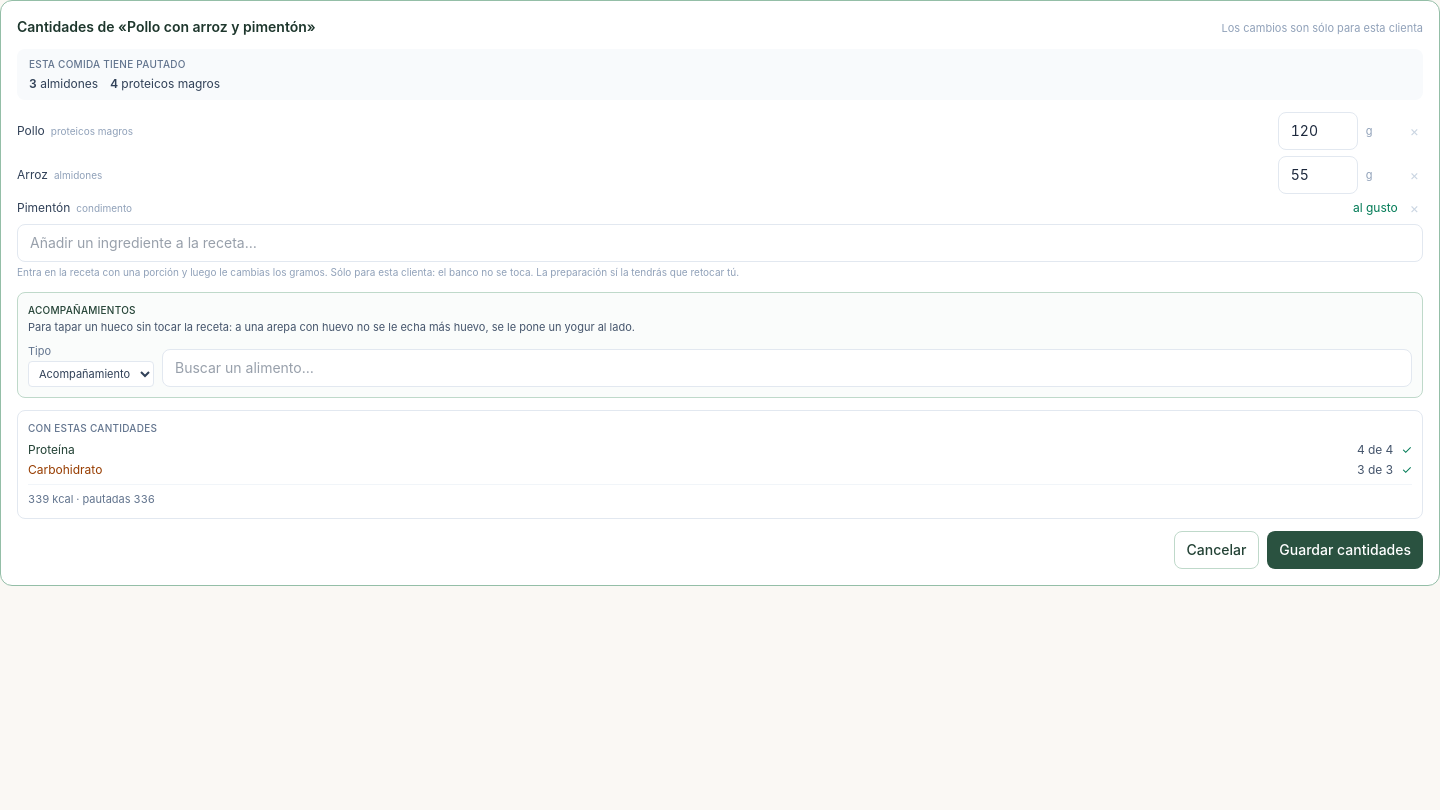
Scenario: Quitarle un ingrediente a esta clienta › y se puede devolver
Click the button named "Quitar Pimentón": (1414, 208) [1406,201,1423,215]
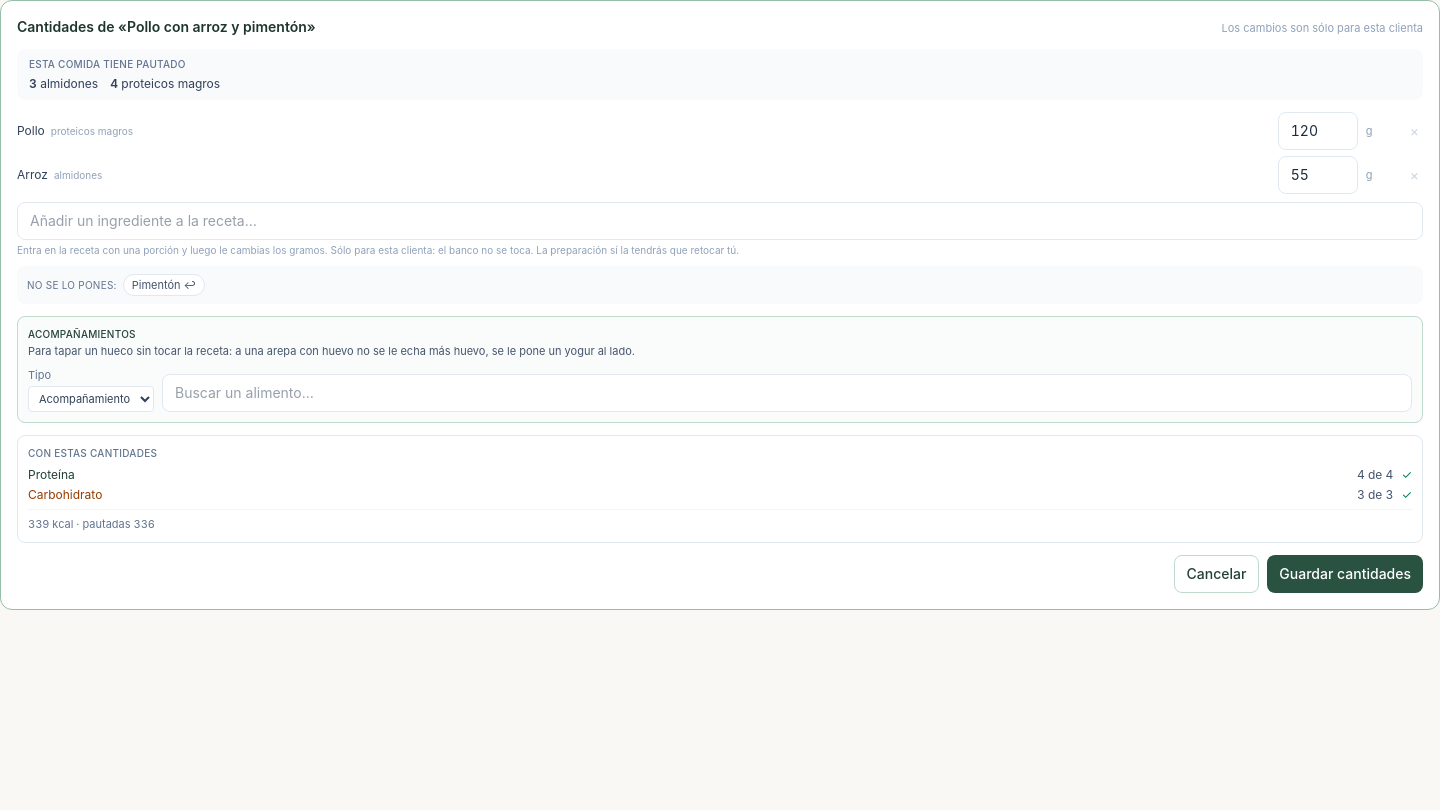
expect the text "No se lo pones:" is shown: met, box [27,278,117,292]
Click the button "Pimentón ↩": (164, 285) [123,274,205,296]
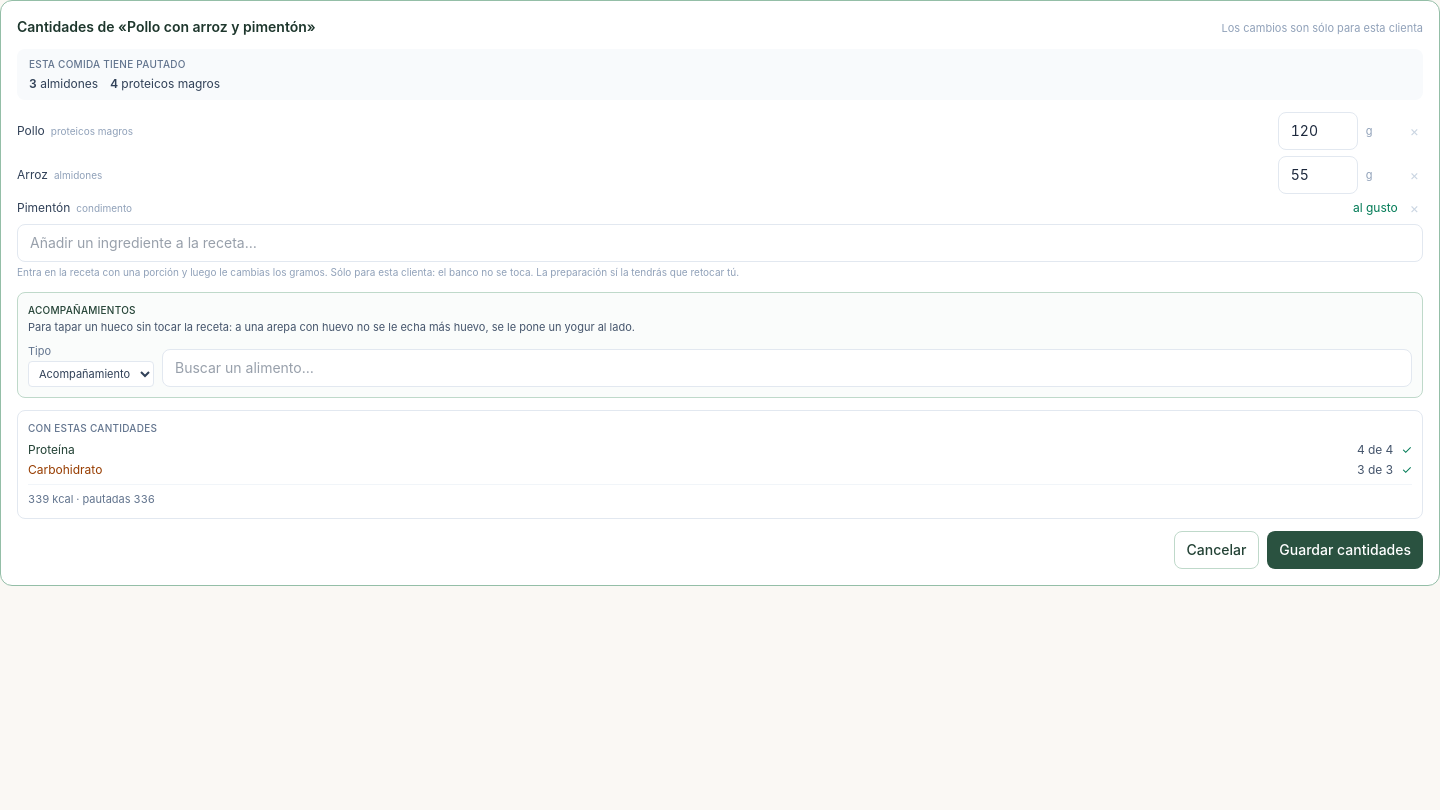
expect the button named "Quitar Pimentón" is shown: met, box [1406,201,1423,215]
expect the text "No se lo pones" is gone: met
